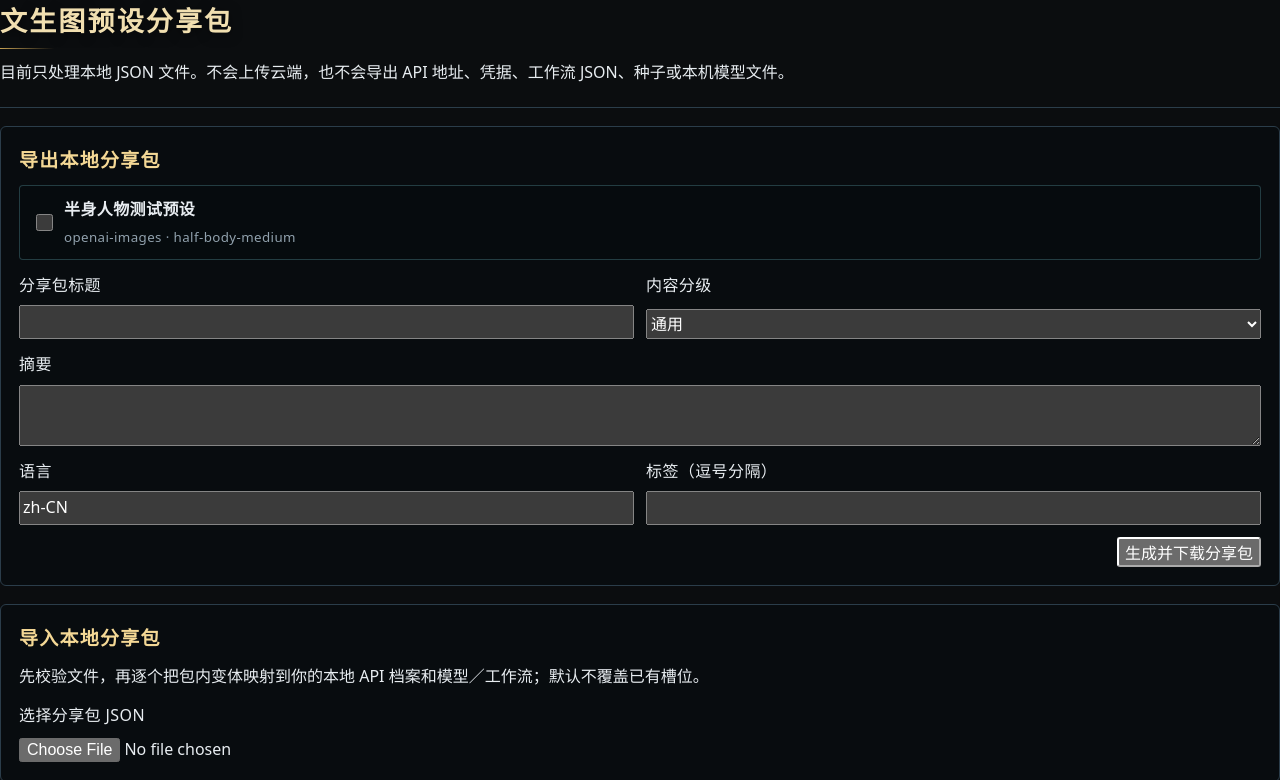
Test case: WorkshopPresetTransferPanel › exports a checked local preset through the player-visible download flow
The width and height of the screenshot is (1280, 780).
Click the checkbox labelled "半身人物测试预设 openai-images · half-body-medium": [44, 222] box [36,214,53,231]
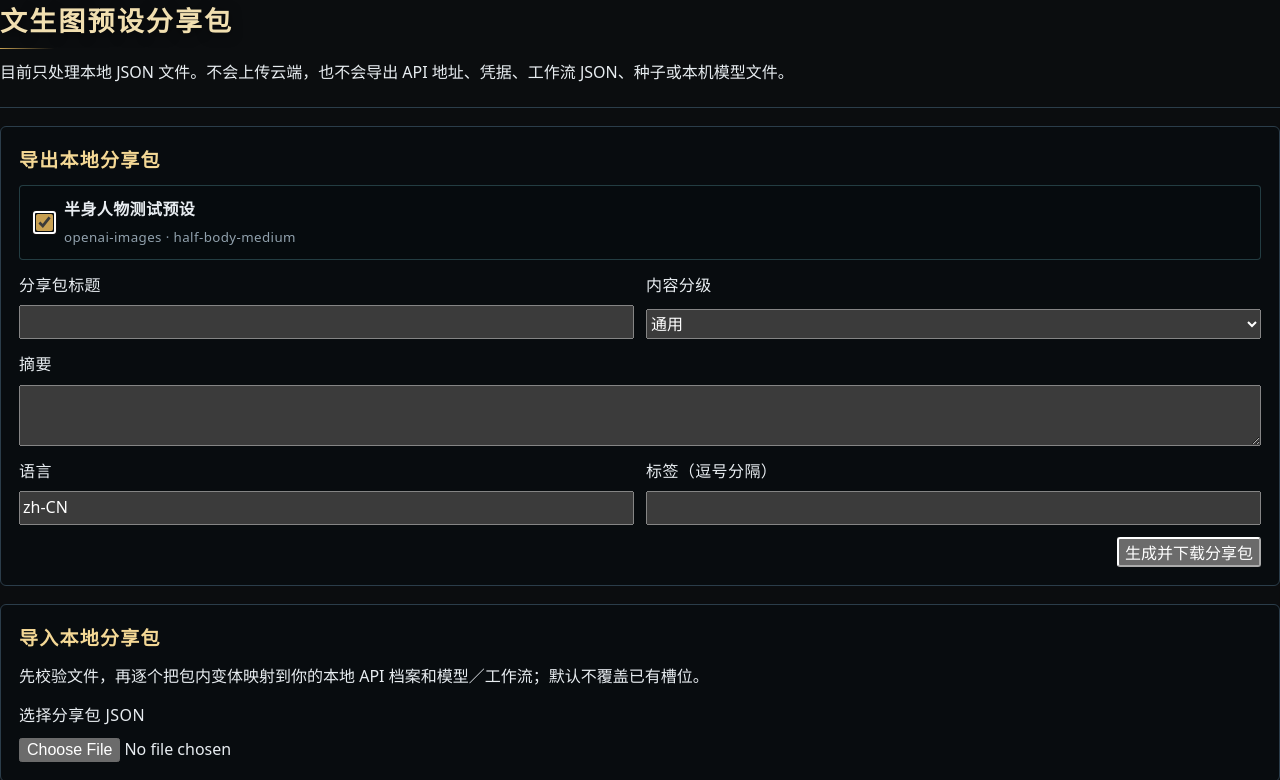
In the field labelled "分享包标题": [326, 322] box [19,306,634,339], type "玩家公开预设"
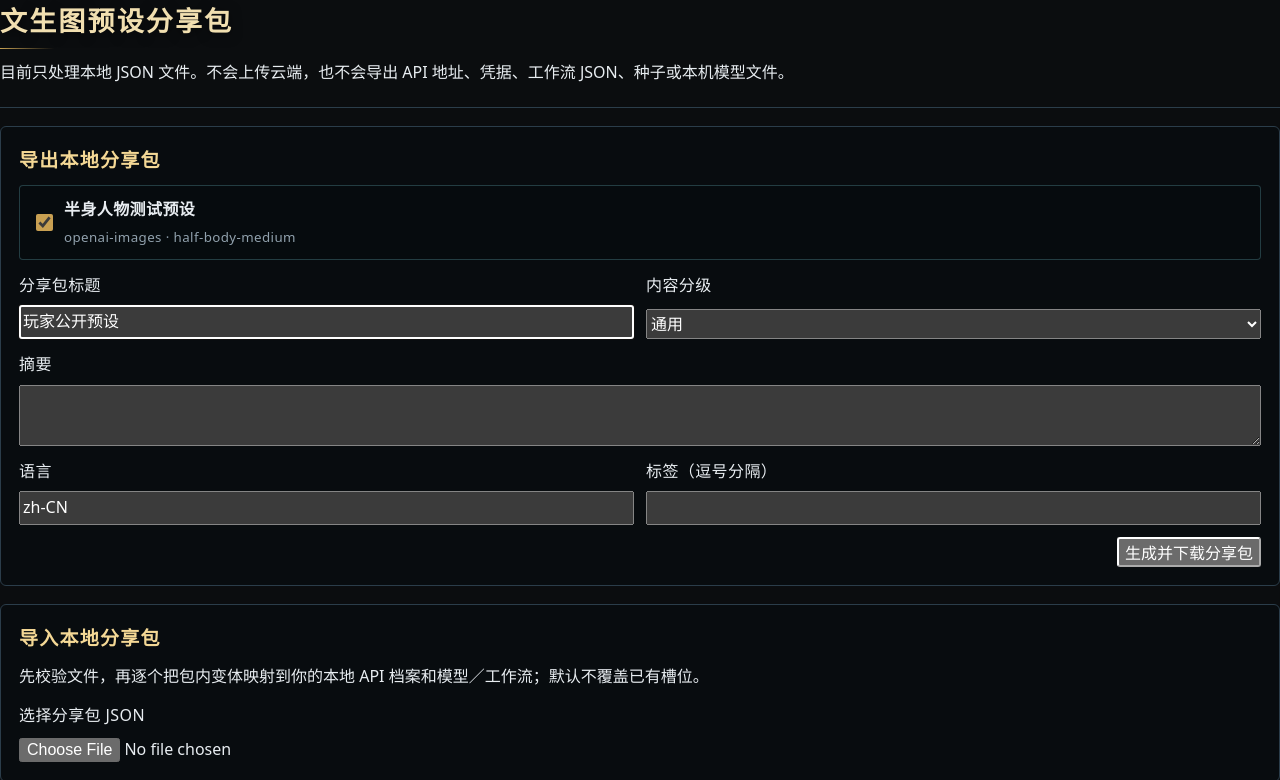
In the text box labelled "摘要": [640, 415] box [19,384,1261,446], type "用于验证本地导出下载。"
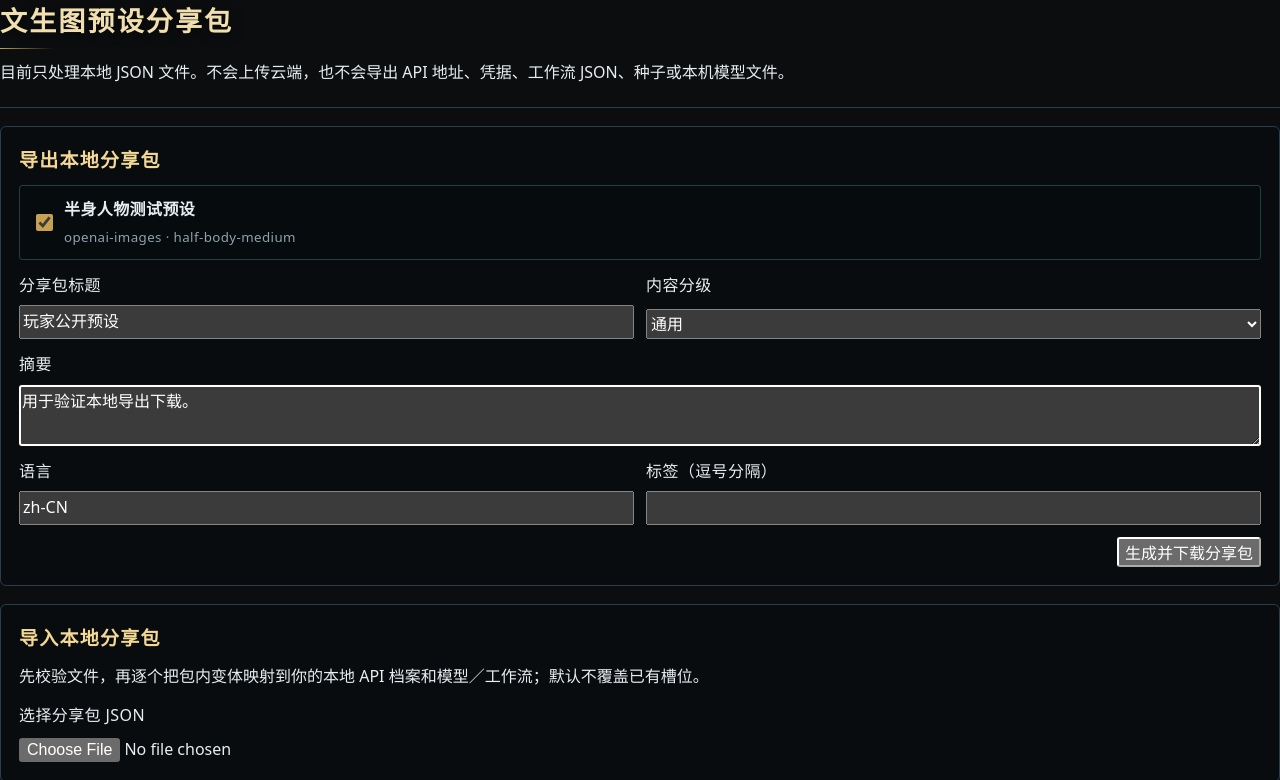
Click the button "生成并下载分享包": [1189, 552] box [1117,537,1261,567]
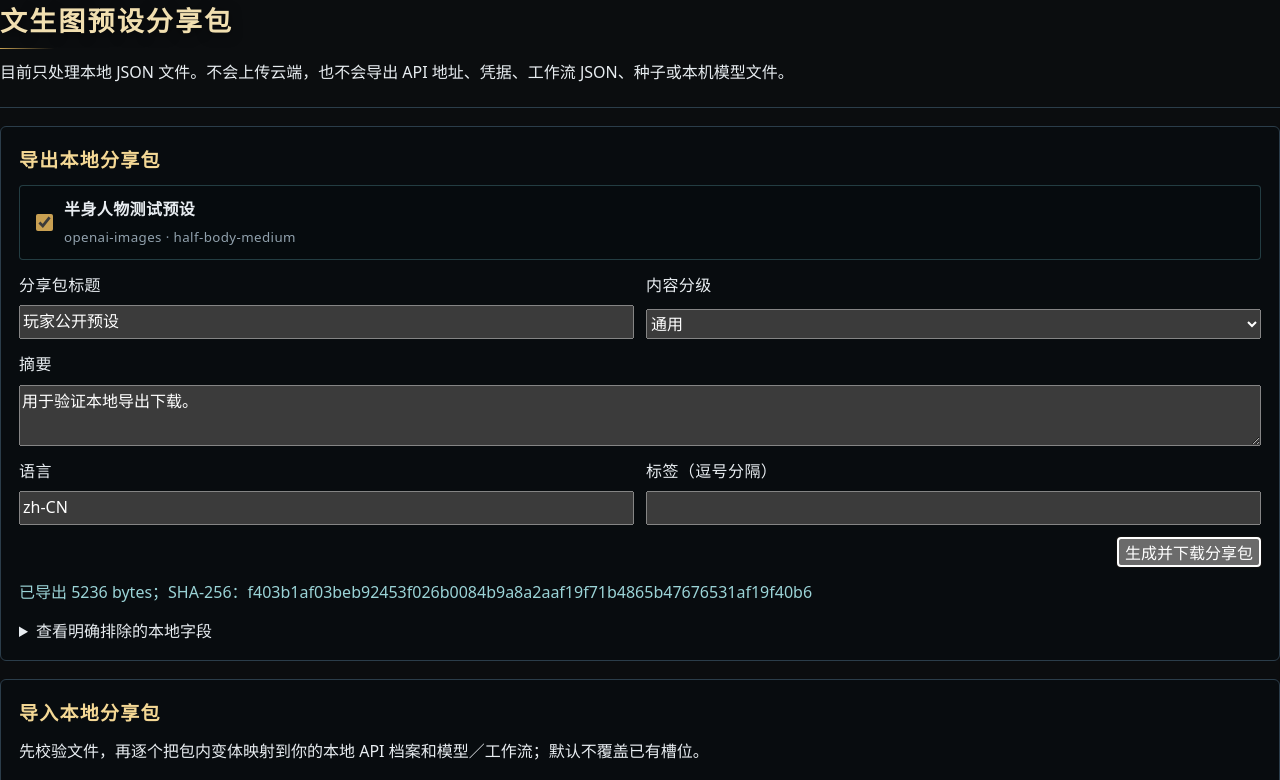
Expected: the message shows "已导出", [19,581,812,603]
